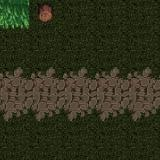Obstacle: (30, 0, 61, 28)
Slow: (0, 0, 30, 28)
